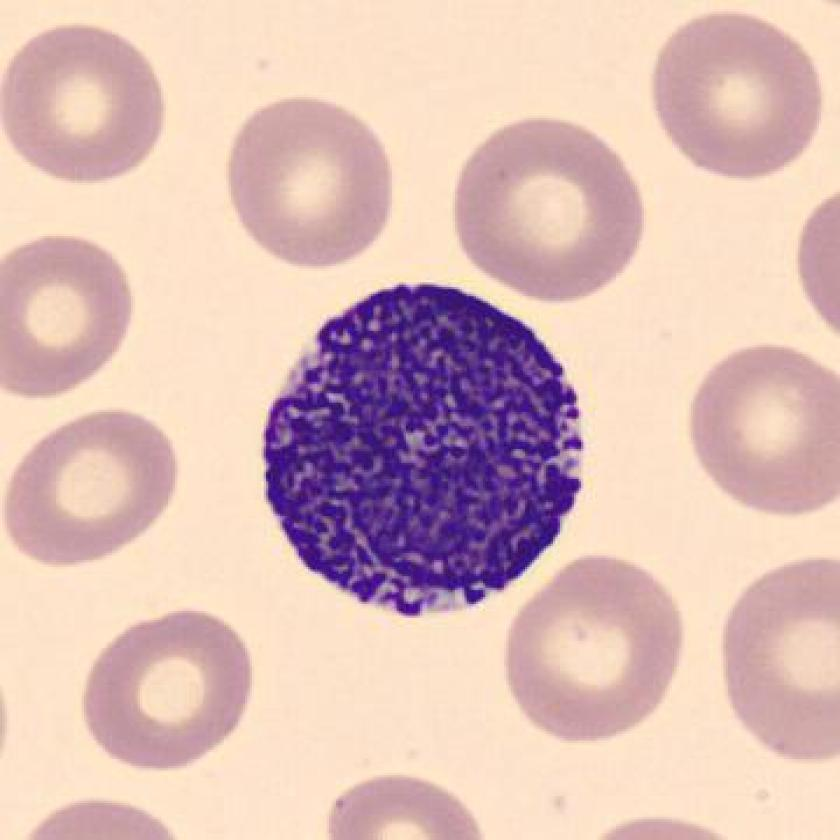basophil: (251, 279, 598, 621)
